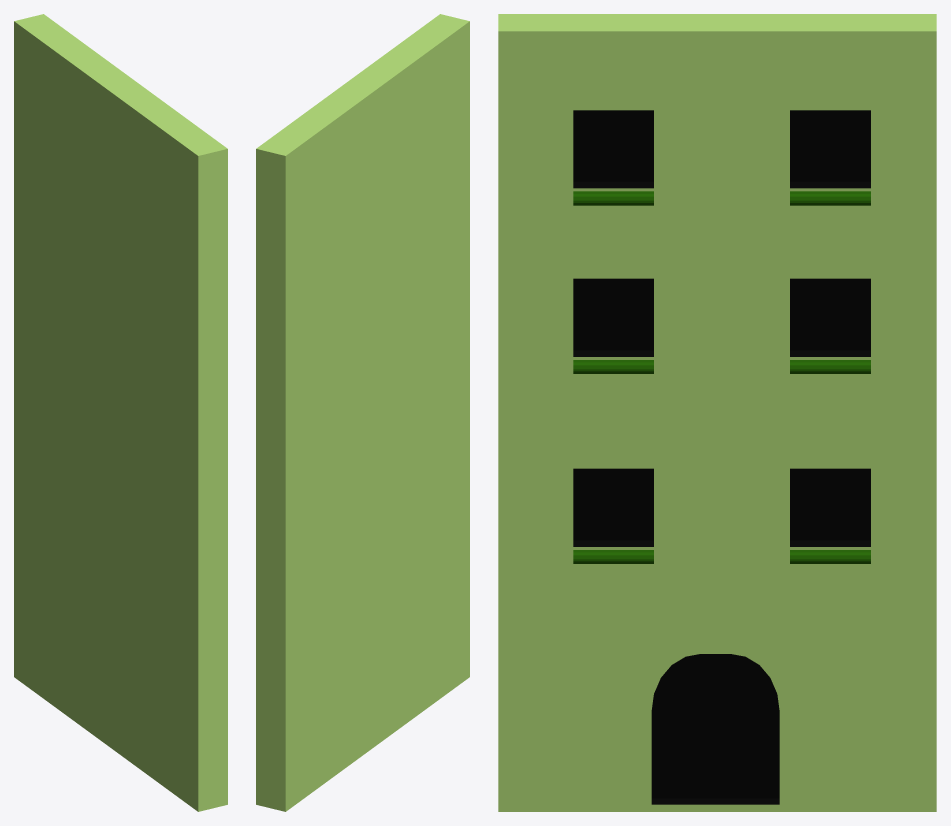
The model's file is Building1.fbx.
3 renders of one model, left to right at view 1: azimuth 30°, elevation 25°; view 2: azimuth 150°, elevation 25°; view 3: azimuth 270°, elevation 25°, orthographic. The views are drawn at different scales.
Visible parts, largest first — view 1: Building04; view 2: Building04; view 3: Building04.
Boxes of the visible parts, x1,y1,x2,y2 form: Building04: [14, 14, 227, 811]; Building04: [256, 14, 469, 811]; Building04: [498, 14, 936, 811].
Bounding box in the file's own units: 6.68 × 111 × 56.49.
